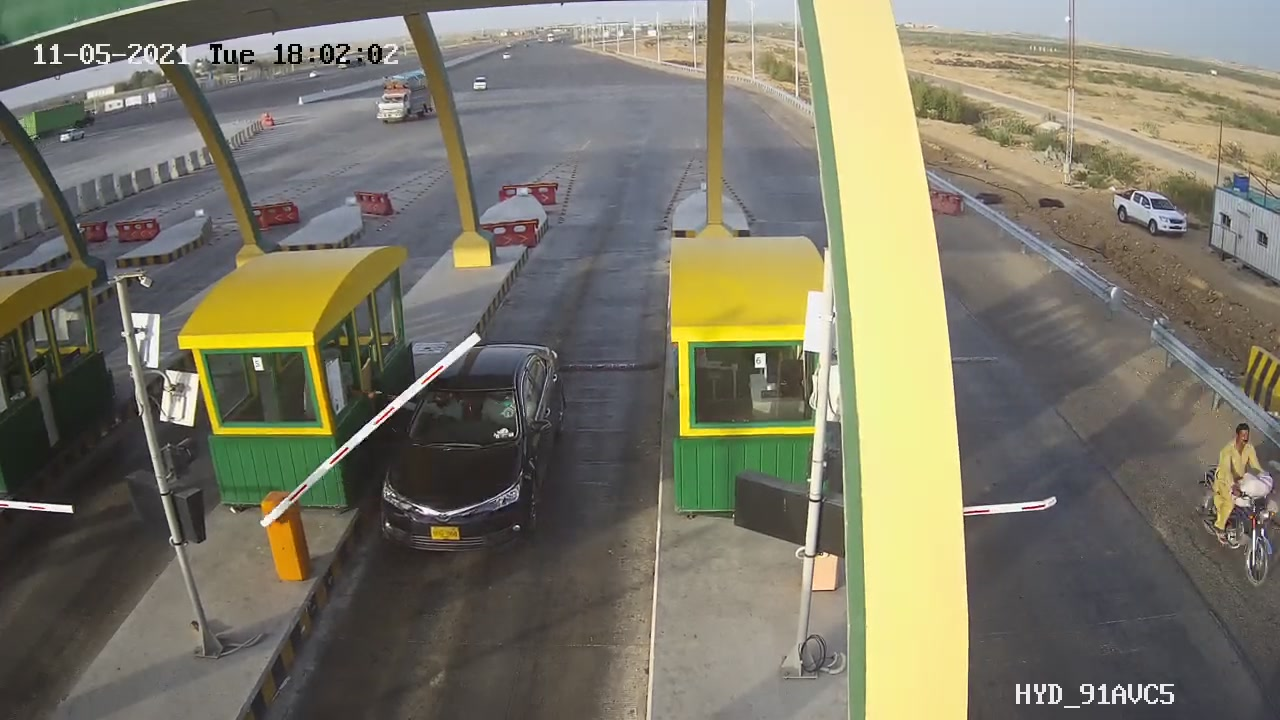F1: (374, 324, 577, 577)
